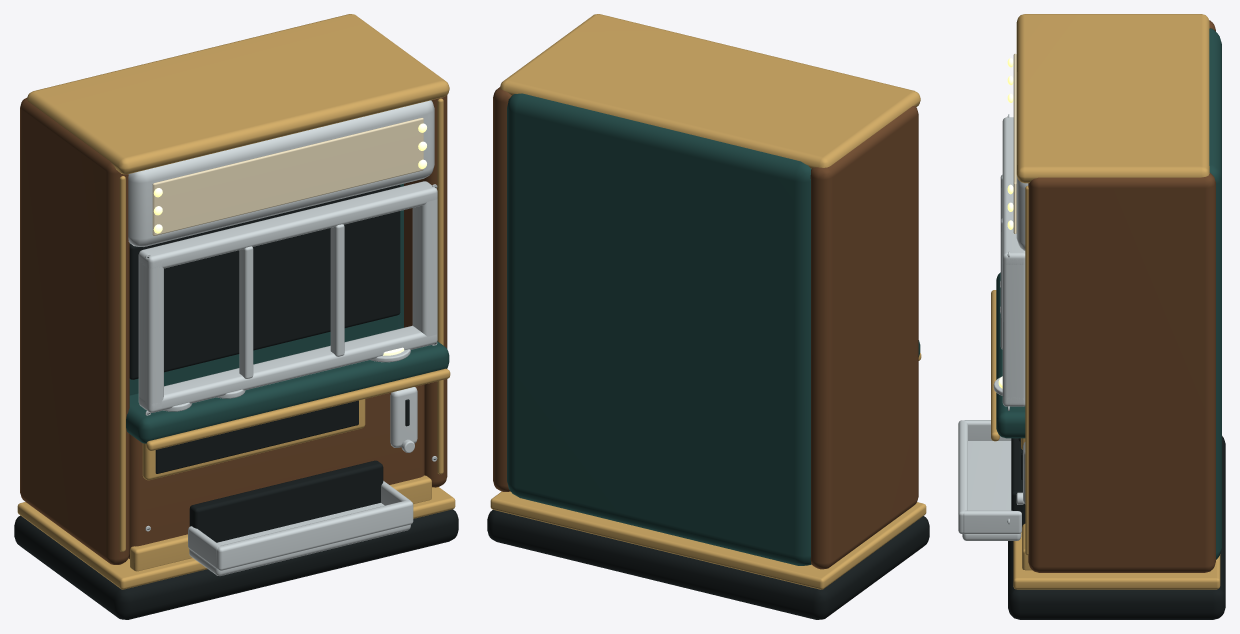
File: slot_cabinet.glb
The picture shows the model from 3 angles, left to right: view 1: azimuth 30°, elevation 25°; view 2: azimuth 150°, elevation 25°; view 3: azimuth 270°, elevation 25°; orthographic projection.
Parts seen in each view (by area): view 1: Walnut, Brass, Dark, Chrome, Ivory, Enamel; view 2: Enamel, Walnut, Brass, Dark; view 3: Walnut, Brass, Chrome, Dark, Enamel, Ivory, Glow.
Part boxes in pixels (<box>): Walnut: <box>20,95,447,564</box>; Brass: <box>17,14,455,589</box>; Dark: <box>14,184,458,619</box>; Chrome: <box>128,100,437,575</box>; Ivory: <box>152,117,423,235</box>; Enamel: <box>126,183,449,443</box>; Enamel: <box>507,93,920,565</box>; Walnut: <box>493,87,918,569</box>; Brass: <box>490,14,926,589</box>; Dark: <box>487,510,929,619</box>; Walnut: <box>1028,20,1215,572</box>; Brass: <box>991,14,1220,589</box>; Chrome: <box>958,114,1028,540</box>; Dark: <box>1007,116,1225,619</box>; Enamel: <box>996,28,1221,559</box>; Ivory: <box>1013,53,1016,233</box>; Glow: <box>998,58,1013,388</box>.
Size of the model in its own units: 2.18 by 2.79 by 1.5.
